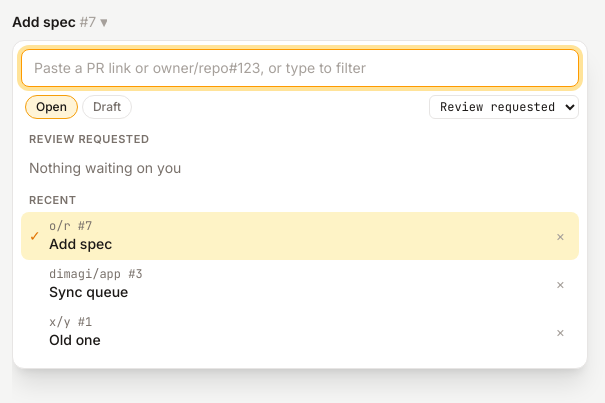
Enter with no match and no link says so
Type "zzz" into the field at coordinates (300, 68), box [21, 49, 579, 87]
Then press Enter
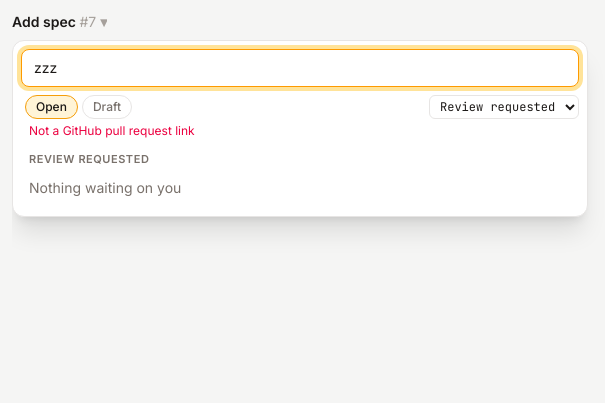
Result: the message reads "Not a GitHub pull request link" at [29, 123, 195, 138]
